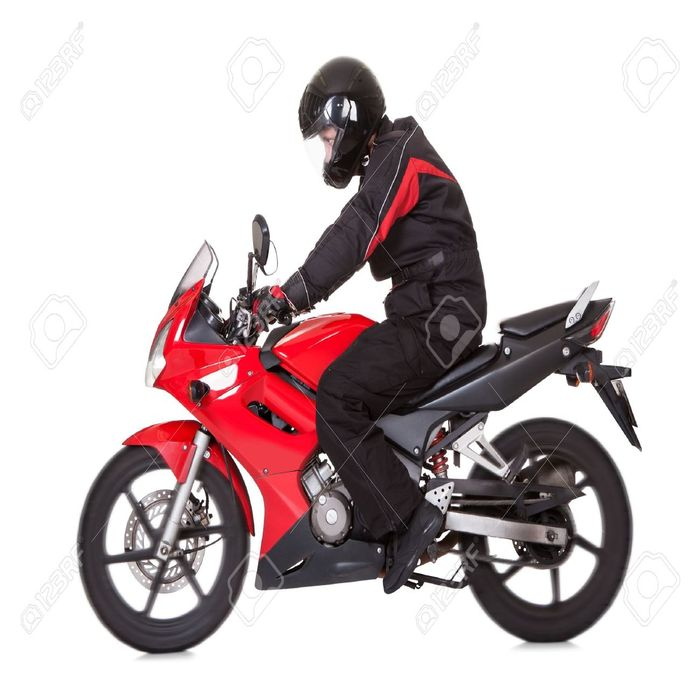h: (298, 57, 391, 190)
